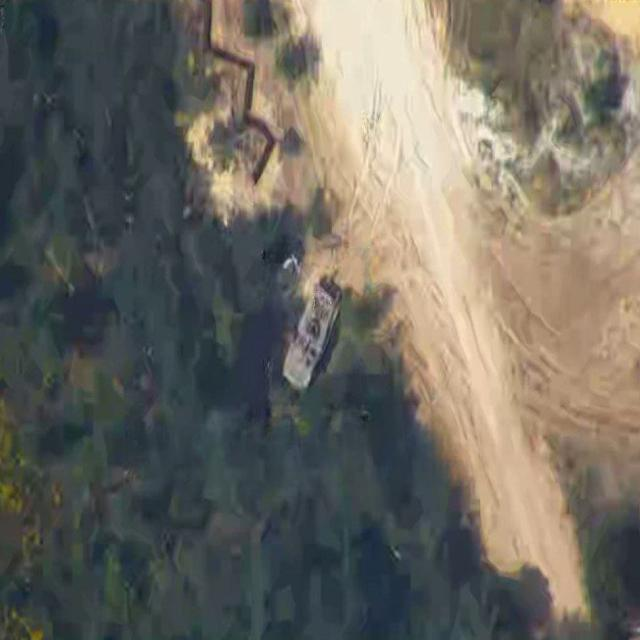AIFV: (281, 277, 345, 399)
